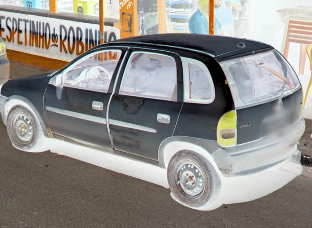car: (1, 33, 303, 206)
